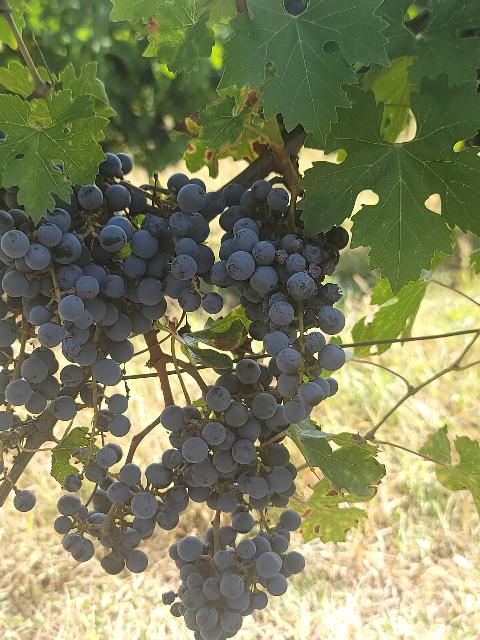grapes: (1, 154, 215, 411), (160, 384, 305, 640), (212, 180, 349, 411), (55, 446, 190, 574)
